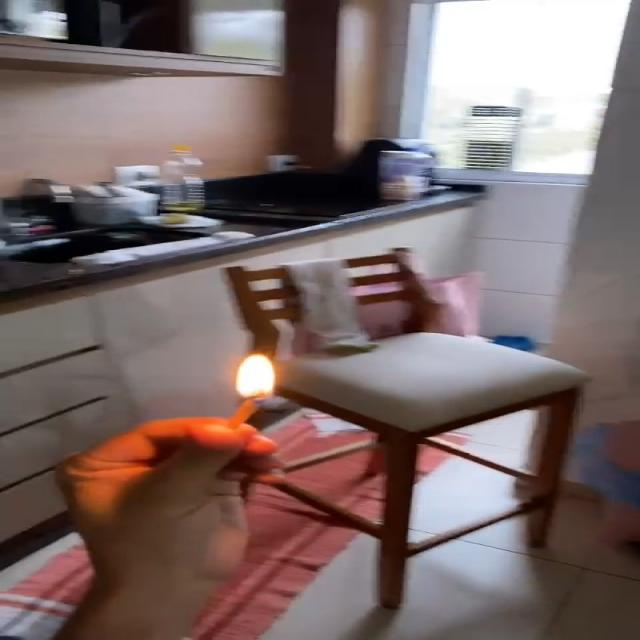fogo-ypXI: (232, 349, 276, 404)
